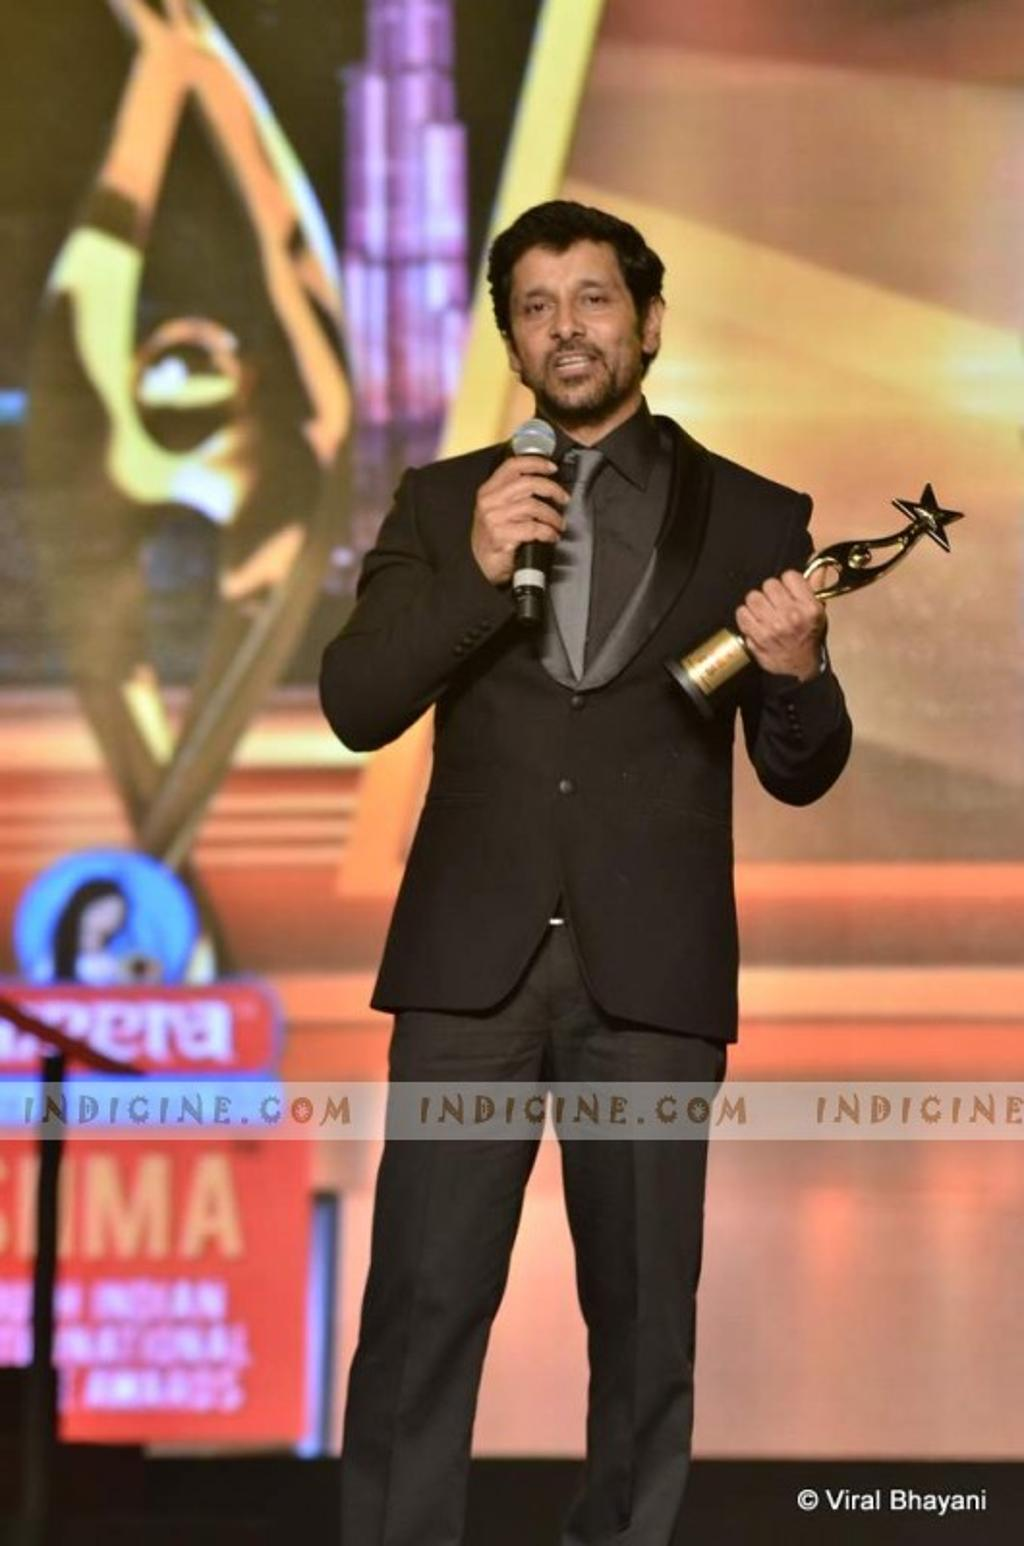face: (501, 230, 637, 417)
